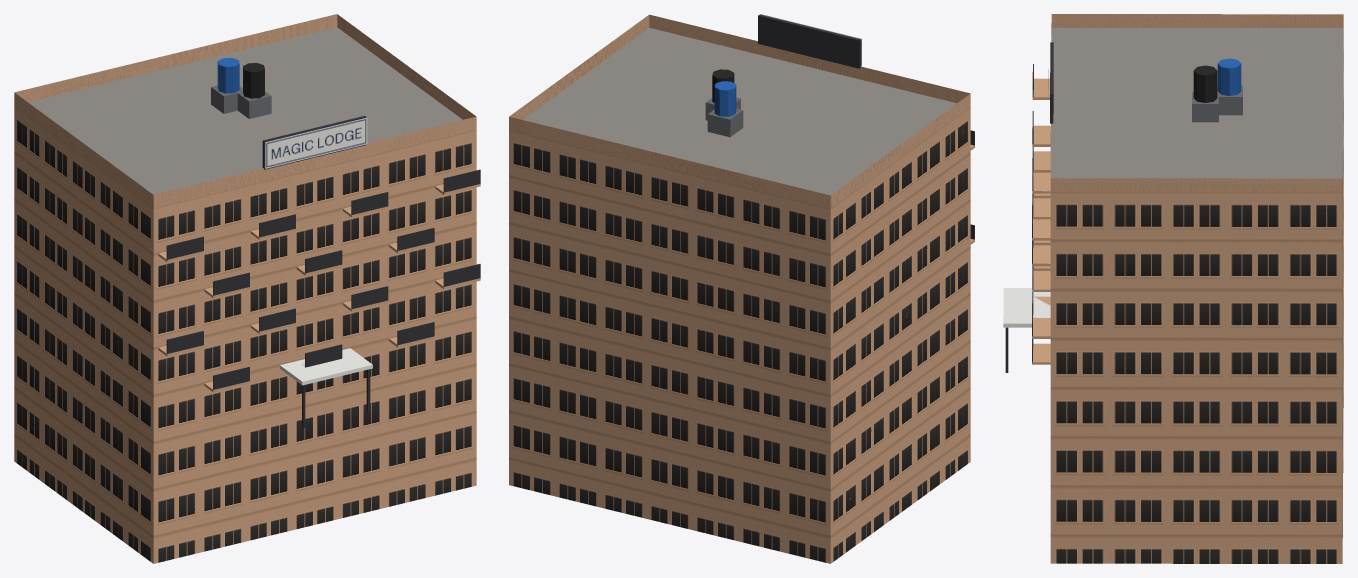
File: hotels-27365-14867.1b5778f8.glb
3 renders of one model, left to right at view 1: azimuth 30°, elevation 25°; view 2: azimuth 150°, elevation 25°; view 3: azimuth 270°, elevation 25°, orthographic. The views are drawn at different scales.
Bounding box in the file's own units: 22.97 × 27.18 × 20.06.
Materials: 4 (2 with a texture image).
